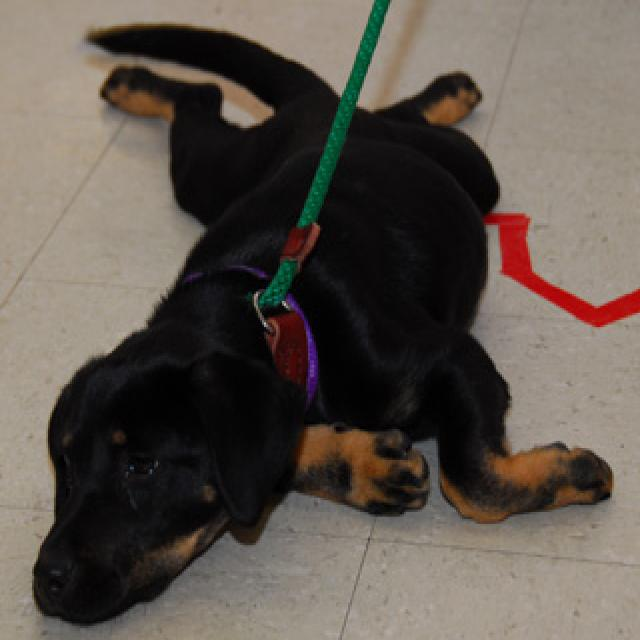Dogs: (30, 19, 614, 626)
